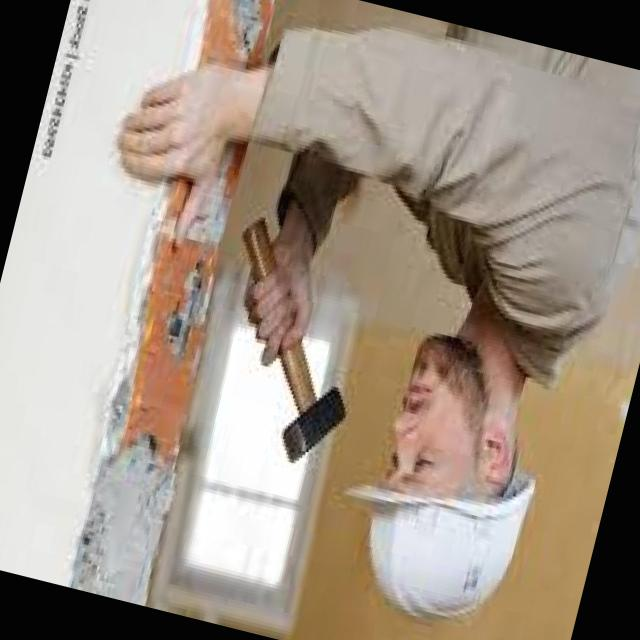hammer: (279, 340, 345, 463), (242, 220, 275, 284)
